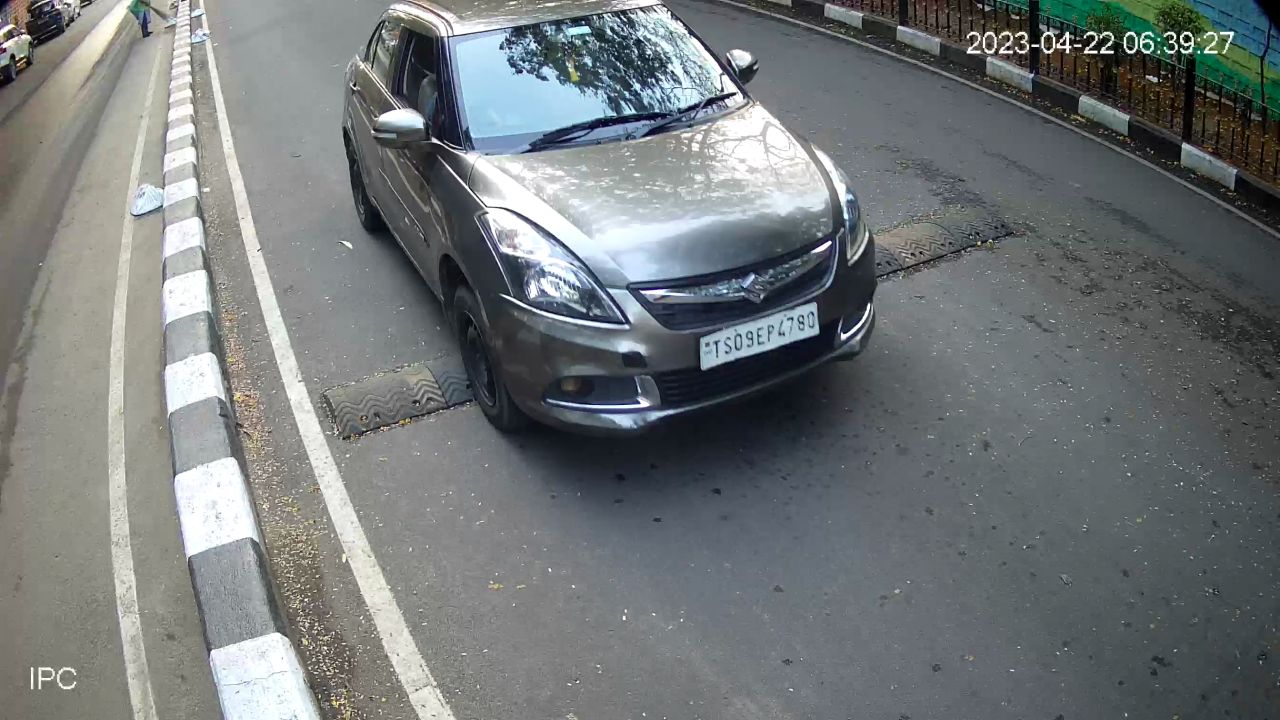license_plate: (693, 297, 825, 376)
